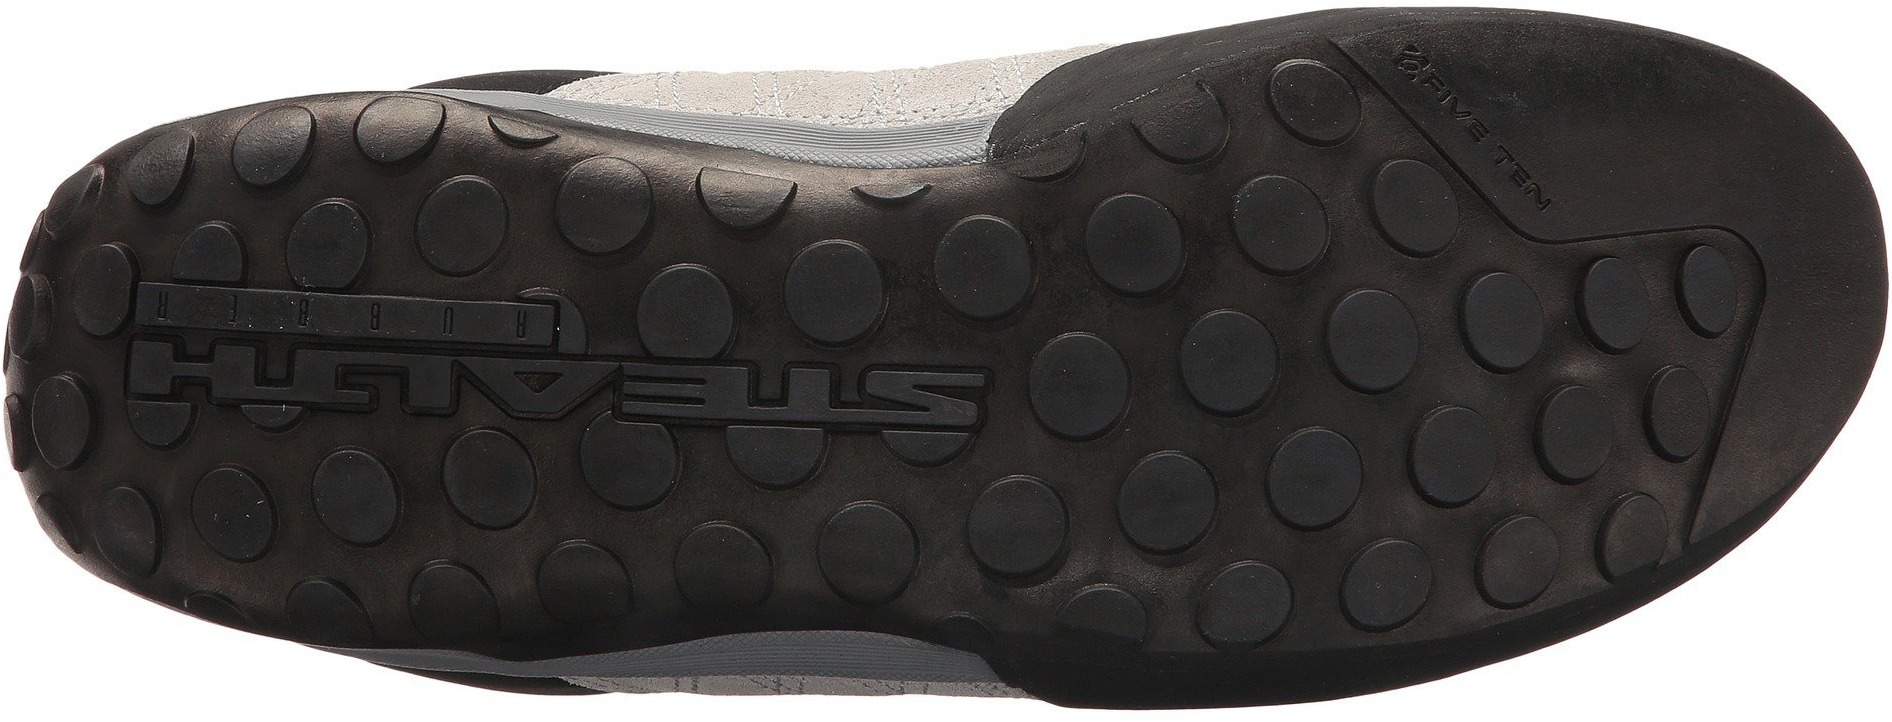circle: (1389, 231, 1671, 571), (1056, 142, 1372, 433), (1135, 441, 1380, 675), (224, 427, 430, 642), (574, 161, 787, 344), (451, 449, 632, 651), (857, 466, 1047, 644), (274, 116, 449, 291), (806, 188, 974, 347), (662, 458, 816, 629), (16, 309, 132, 421), (1678, 240, 1757, 351)
other: (1579, 40, 1753, 214)
text: (427, 296, 557, 429), (146, 272, 265, 411), (279, 293, 410, 417), (563, 339, 703, 452), (758, 339, 877, 458), (874, 344, 989, 449), (1417, 57, 1501, 140), (1481, 149, 1567, 223)
